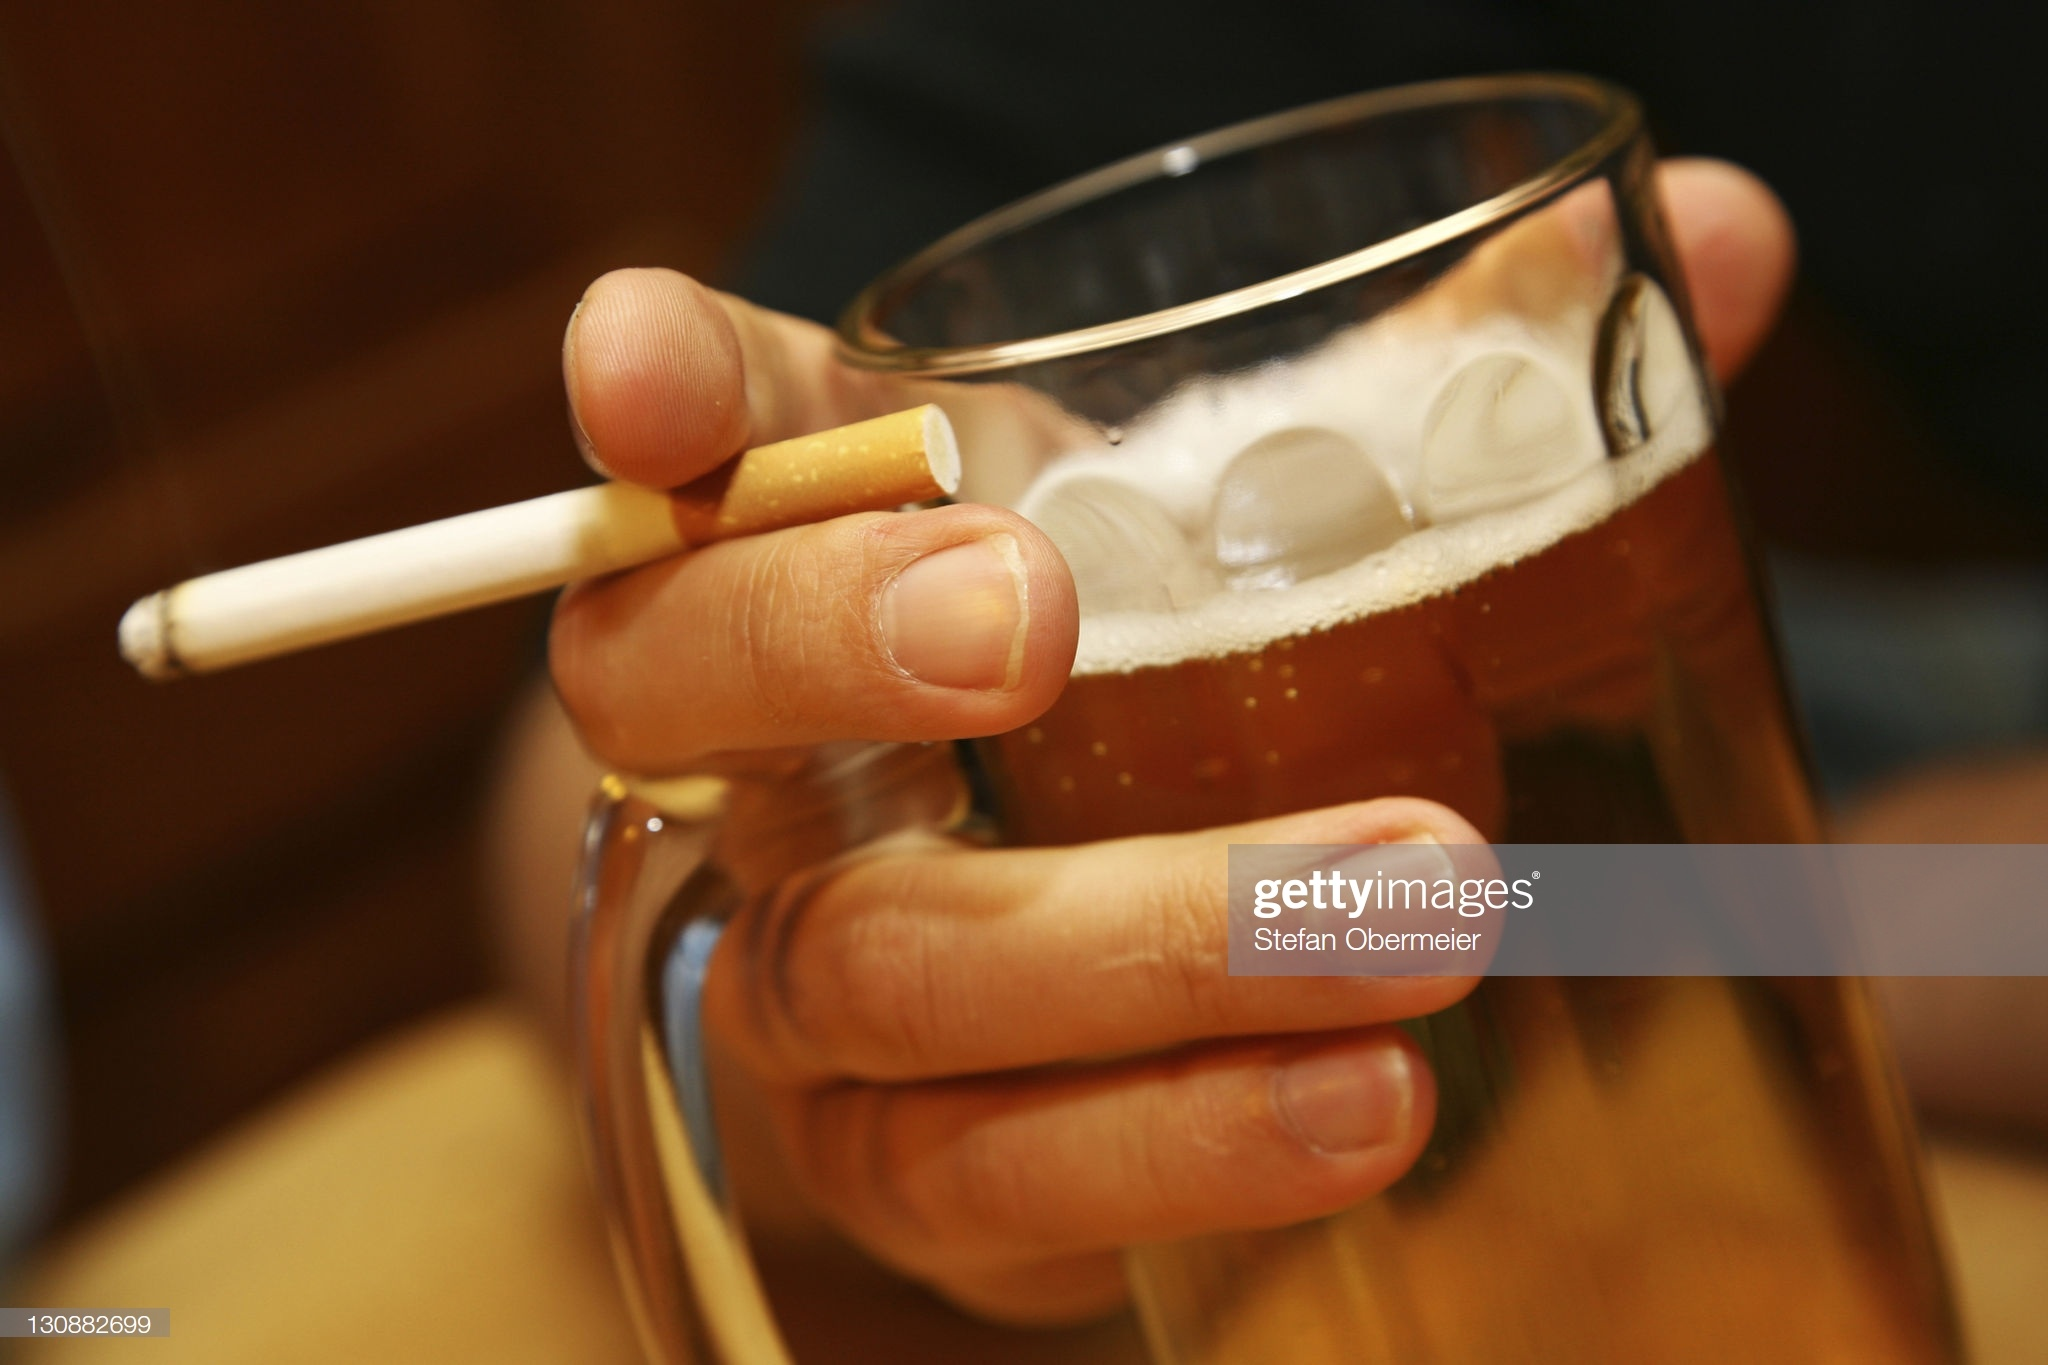sigaretta: (97, 393, 956, 689)
